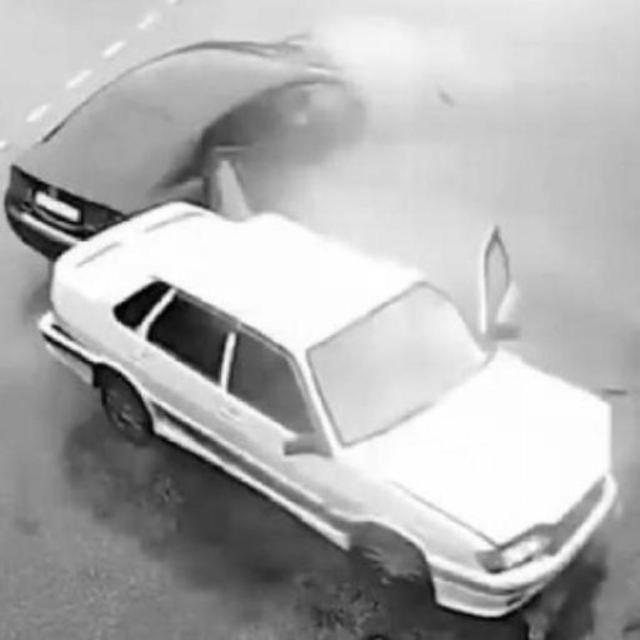accident: (9, 43, 626, 621)
